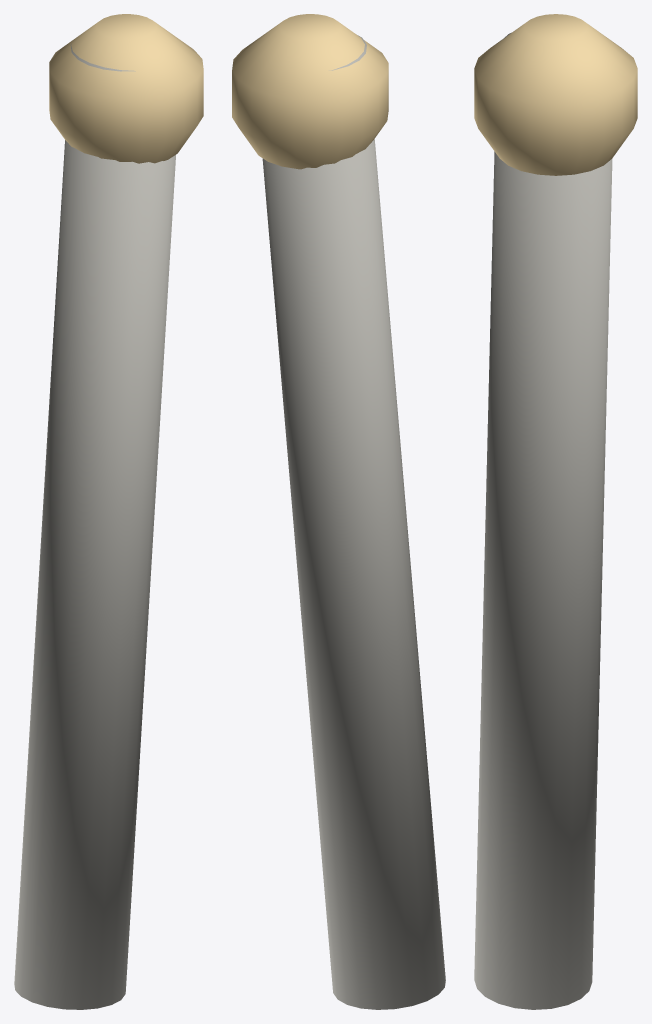
The model's file is marker-post-02.glb.
3 renders of one model, left to right at view 1: azimuth 30°, elevation 25°; view 2: azimuth 150°, elevation 25°; view 3: azimuth 270°, elevation 25°, orthographic. The views are drawn at different scales.
Visible parts, largest first — view 1: default; view 2: default; view 3: default.
Boxes of the visible parts, bbox=[...] form: default: bbox=[14, 14, 203, 1009]; default: bbox=[232, 14, 445, 1009]; default: bbox=[474, 14, 637, 1009].
Size of the model in its own units: 0.2448 by 1.21 by 0.18.
